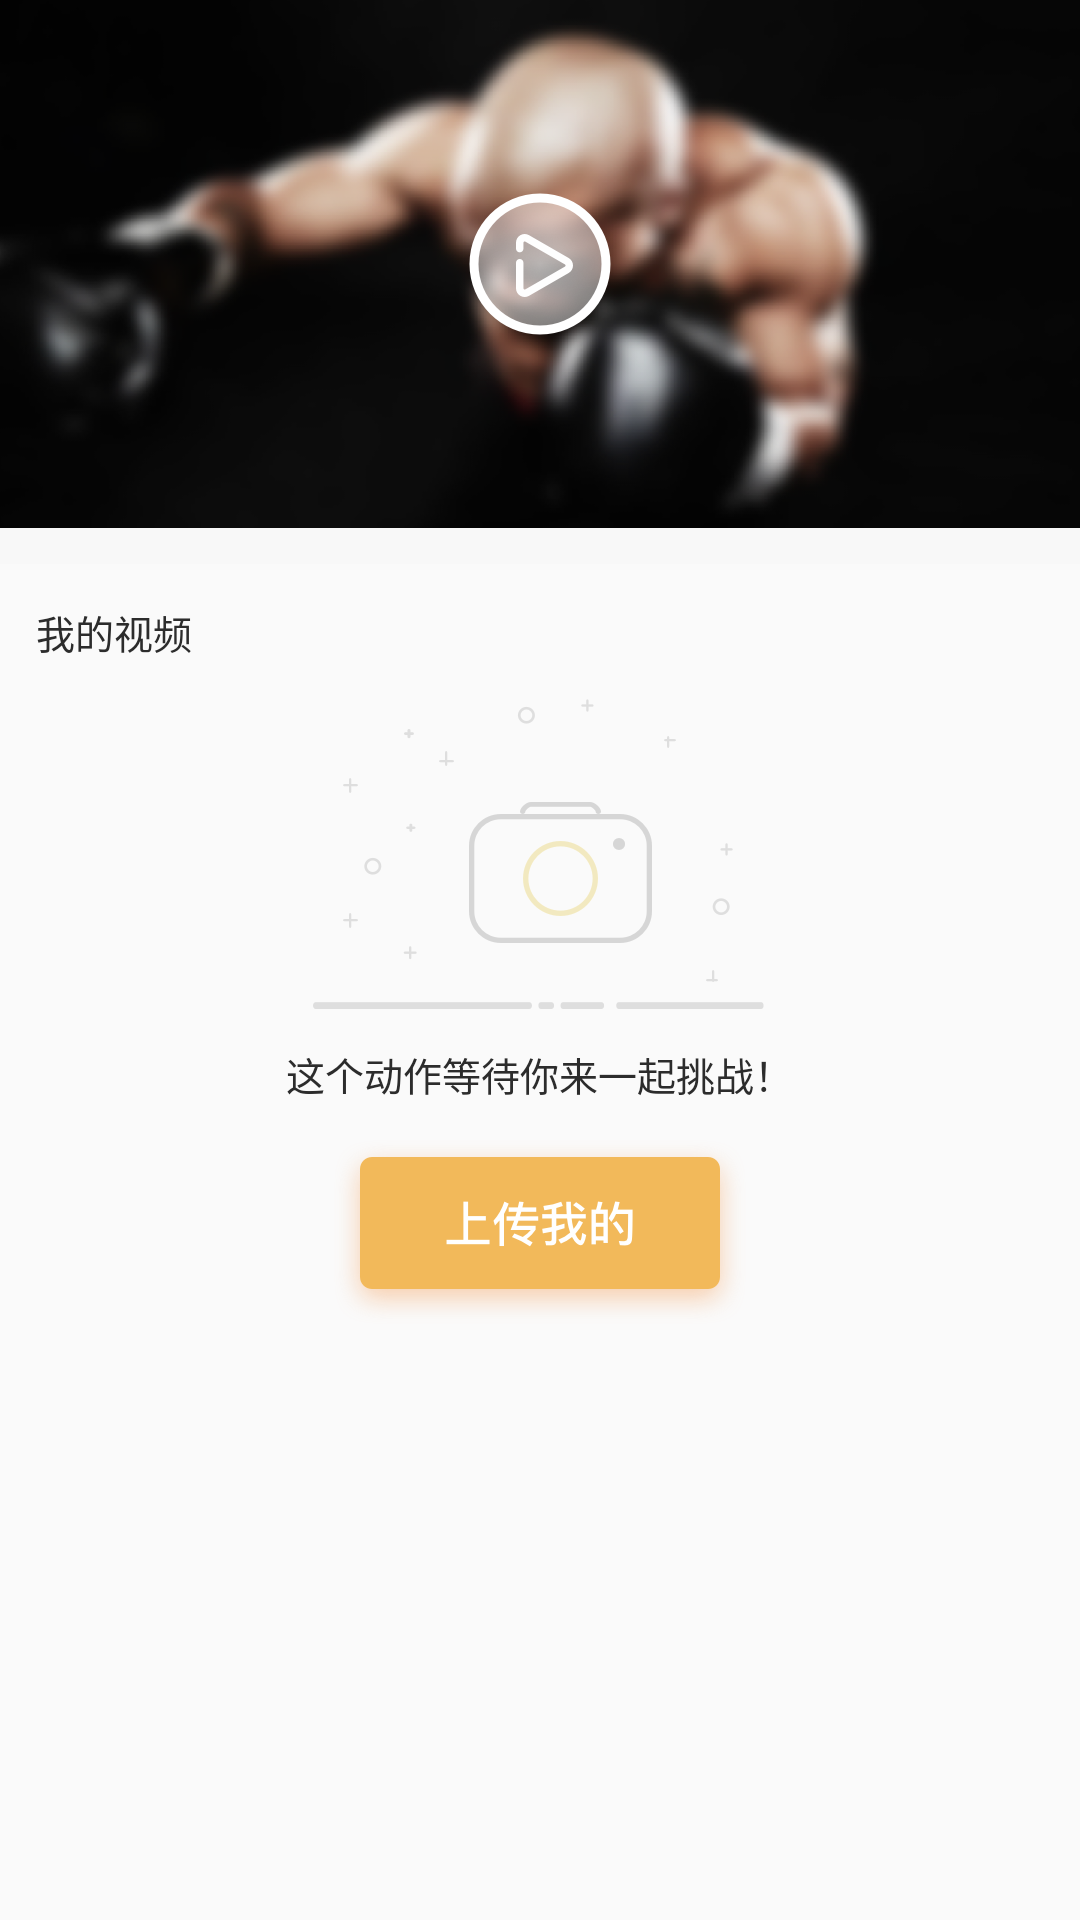

Screen size 1080w x 1920h. Icon name, then its center in pixels as (x=x, y=y):
bofang: (x=540, y=264)
